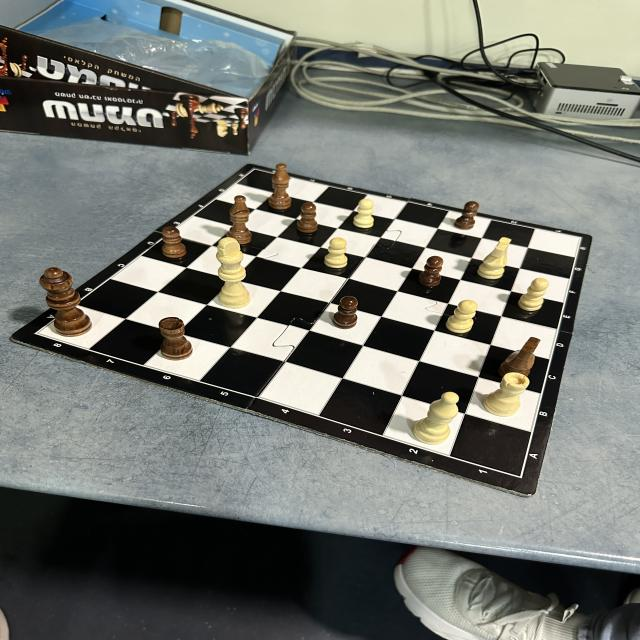Black-Bishop: (228, 196, 252, 244), (268, 163, 292, 210)
Black-Knight: (498, 337, 540, 380)
Black-Pawn: (333, 296, 359, 329), (161, 226, 187, 258), (419, 256, 444, 287), (455, 200, 479, 230), (296, 202, 318, 233)
Black-Queen: (39, 266, 92, 337)
Black-Rook: (159, 317, 193, 360)
White-Bishop: (414, 392, 459, 443)
White-King: (217, 238, 250, 308)
White-Knight: (477, 237, 511, 280)
White-Pawn: (446, 300, 477, 333), (518, 278, 549, 310), (324, 237, 347, 268), (352, 199, 374, 229)
White-Rook: (483, 373, 529, 416)
